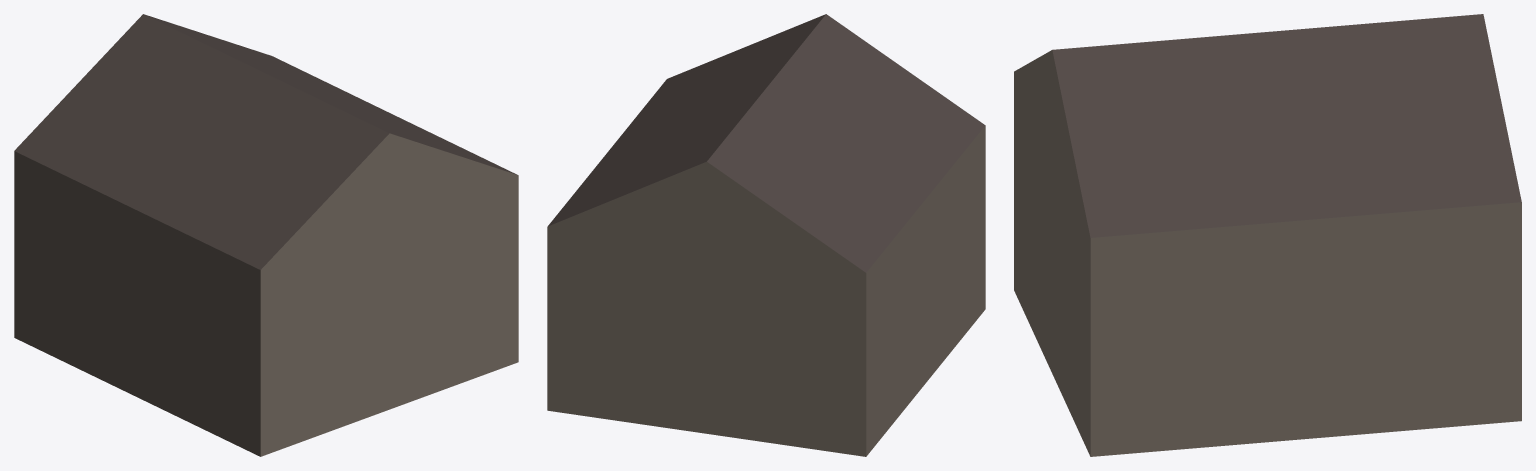
The picture shows the model from 3 angles, left to right: view 1: azimuth 30°, elevation 25°; view 2: azimuth 150°, elevation 25°; view 3: azimuth 270°, elevation 25°; orthographic projection. The views are drawn at different scales.
Parts seen in each view (by area): view 1: HP-w1376988802; view 2: HP-w1376988802; view 3: HP-w1376988802.
Boxes of the visible parts, box(x1,y1,x2,y2) form: HP-w1376988802: box(14, 14, 518, 456); HP-w1376988802: box(547, 14, 985, 456); HP-w1376988802: box(1014, 14, 1521, 456).
Size of the model in its own units: 11.88 by 8.88 by 12.61.
